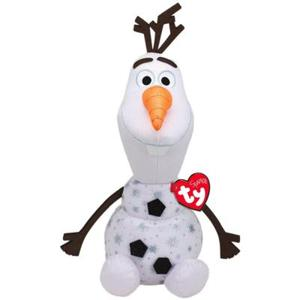olaf: (78, 10, 250, 296)
